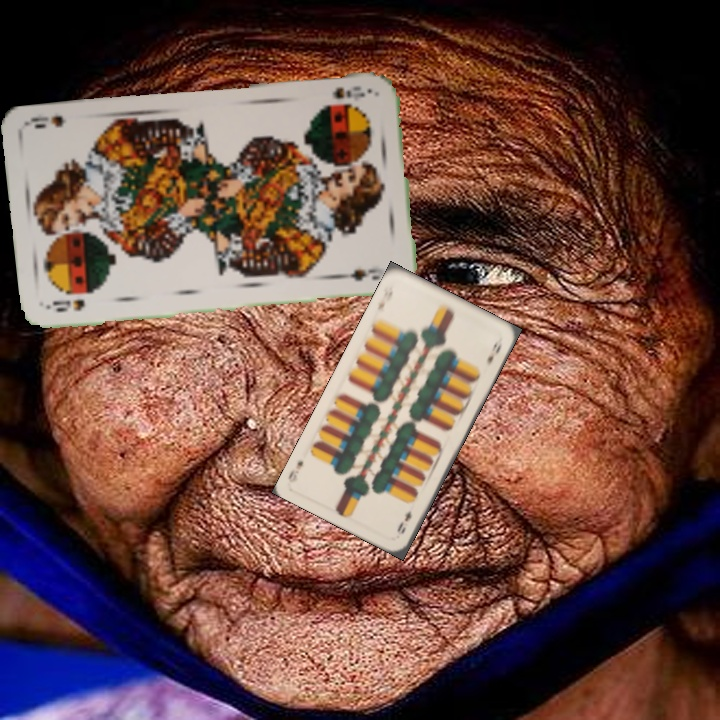E9: (373, 282, 396, 313), (393, 506, 414, 536)
SO: (328, 82, 367, 103), (49, 295, 87, 315)
